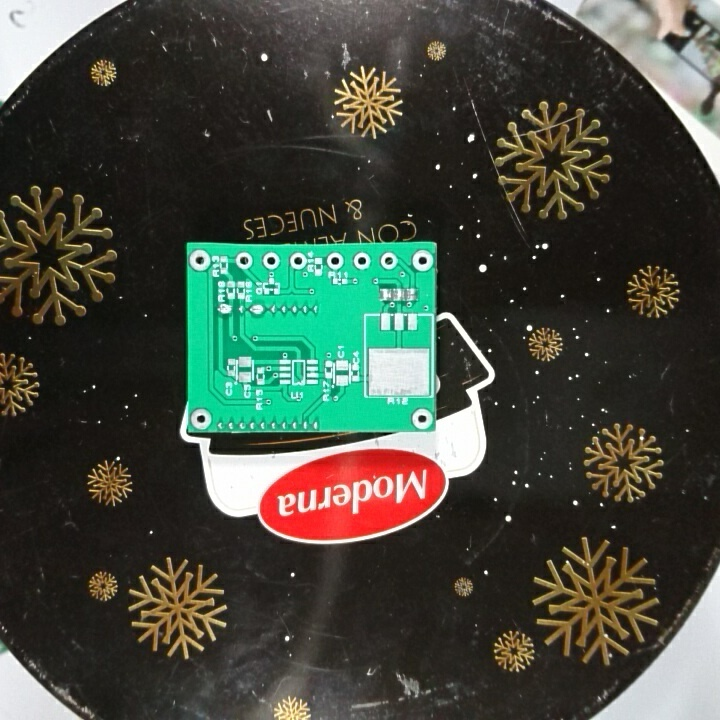F: (408, 248, 434, 274), (188, 246, 211, 275), (188, 406, 214, 431), (411, 406, 434, 431), (259, 250, 282, 272), (232, 250, 254, 272), (288, 251, 308, 273), (351, 250, 372, 270), (377, 250, 399, 269), (325, 251, 345, 270)
P: (247, 302, 268, 319), (214, 302, 234, 318)
